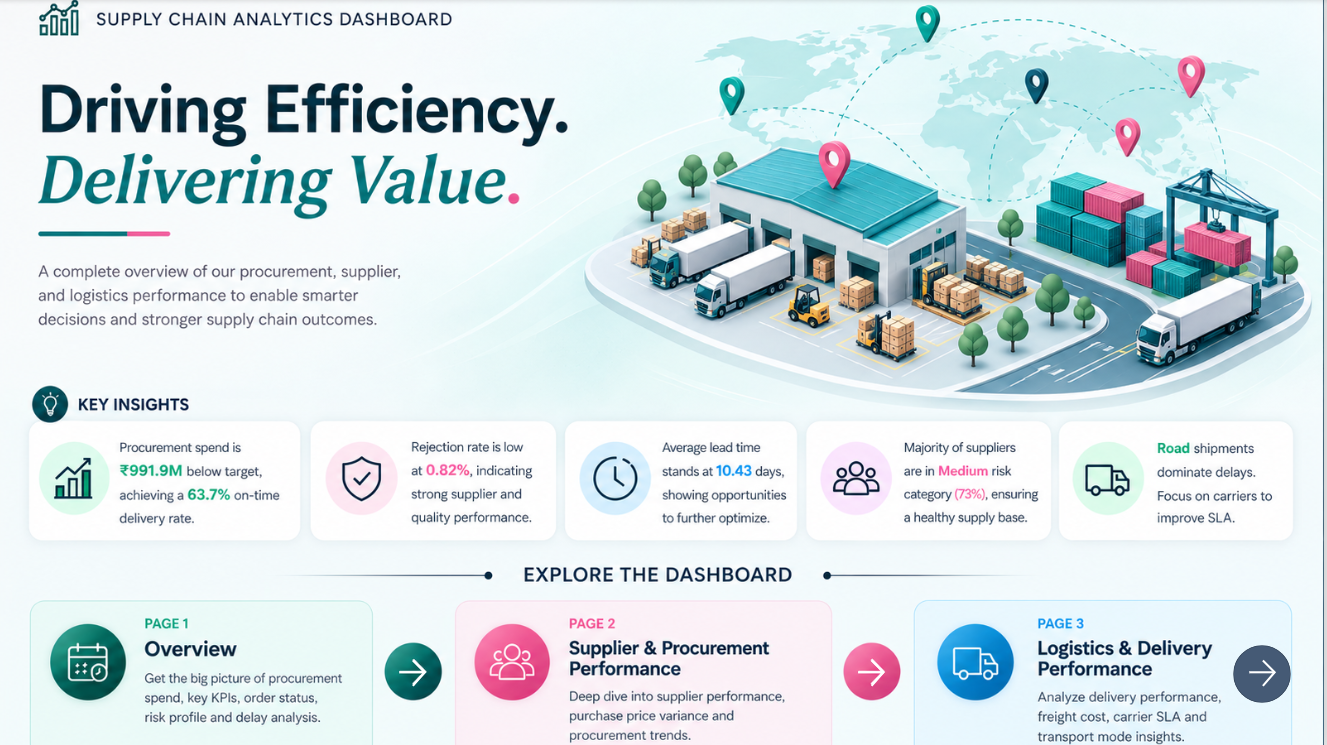

Layout of this report page (visuals, bound fields, positions):
{"tool":"powerbi","page":{"name":"Home","canvas":[1920,1080],"ordinal":0},"visuals":[{"type":"shape","box":[1789.8,935.6,83.2,83.2],"z":0},{"type":"actionButton","box":[523,944.6,155.6,63.3],"z":1000},{"type":"actionButton","box":[1187.1,944.6,155.6,63.3],"z":2000},{"type":"actionButton","box":[1753.6,944.6,155.6,63.3],"z":3000}]}

Visuals, with their boxes in screenshot pixels (x1, y1, x2, y2), scaled from the page's 1920x1080 canvas onto the 1327x745 screenshot:
shape: <box>1237,645,1295,703</box>
actionButton: <box>361,652,469,695</box>
actionButton: <box>820,652,928,695</box>
actionButton: <box>1212,652,1320,695</box>
